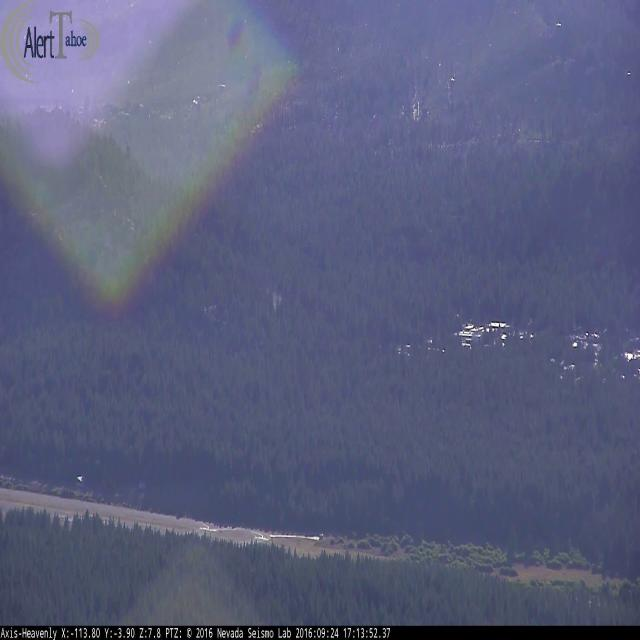smoke: (265, 277, 282, 312)
